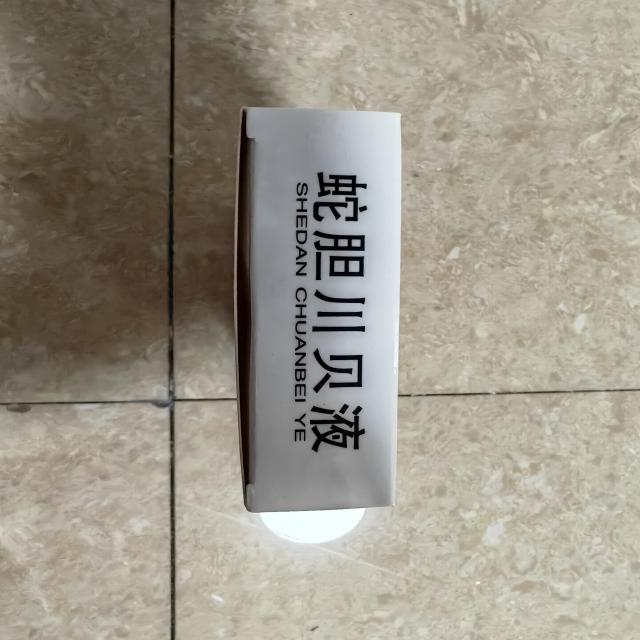box: (225, 98, 424, 526)
